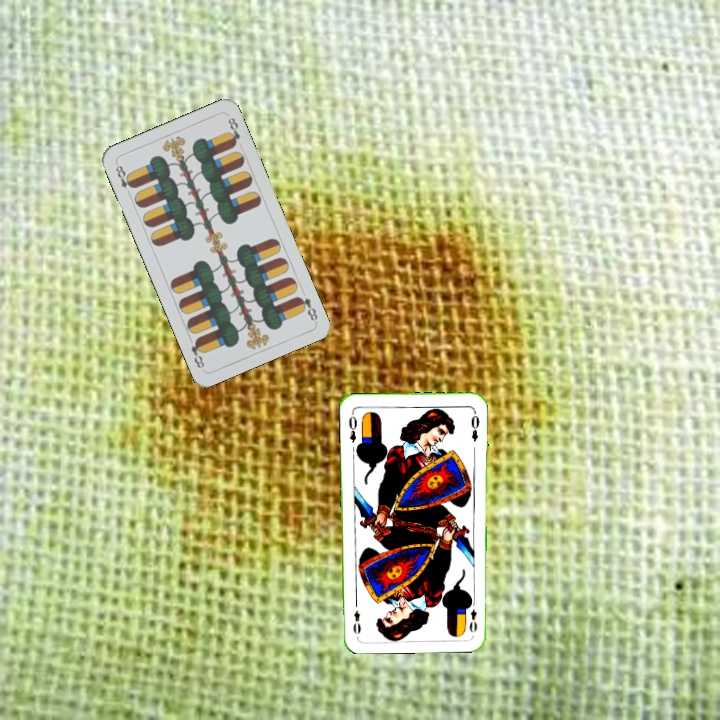E8: (111, 159, 137, 198), (293, 292, 320, 323)
EO: (344, 408, 360, 445), (466, 595, 480, 634)
